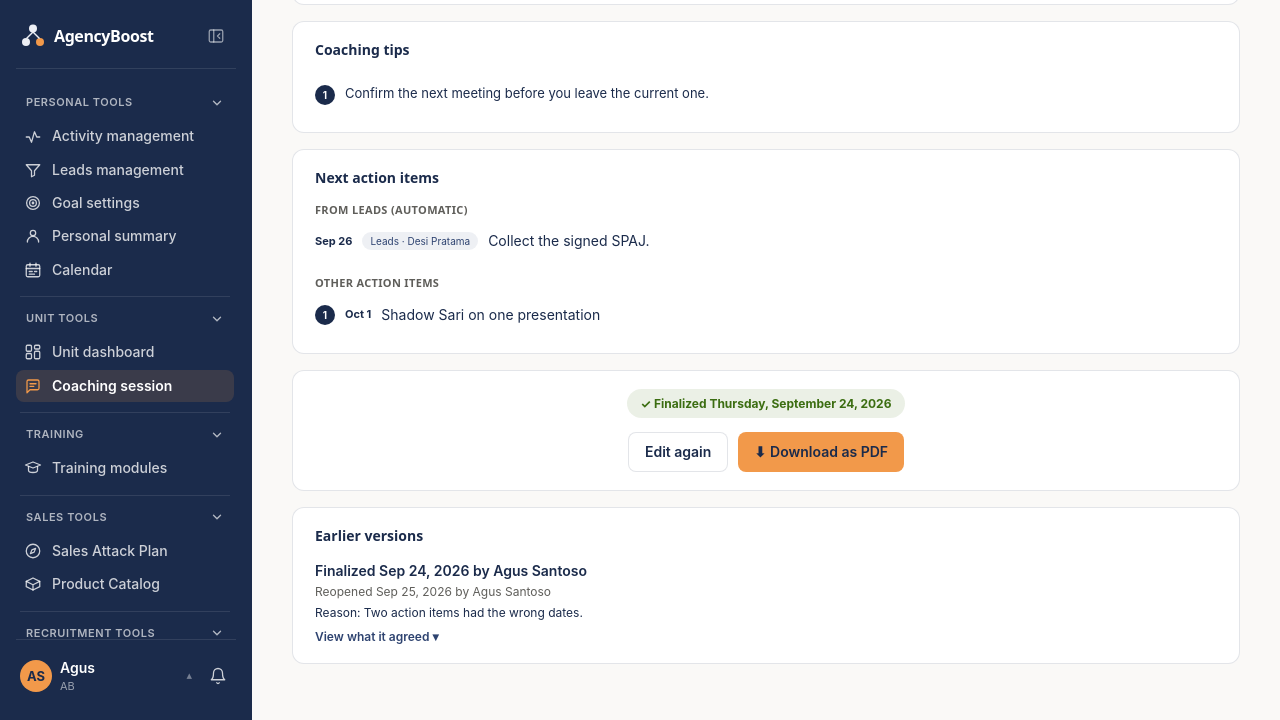
a past session’s archive (P11-T10) › earlier versions › P11-T10 AC-1 lists each earlier version with who finalized it, who reopened it, when and why, and opens what it agreed
The width and height of the screenshot is (1280, 720).
(page scrolled)
Expected: the element "Earlier versions" shows "Finalized Sep 24, 2026 by Agus Santoso", [292, 507, 1240, 664]
Expected: the element "Earlier versions" shows "Reopened Sep 25, 2026 by Agus Santoso", [292, 507, 1240, 664]
Click the button "View what it agreed ▾": [377, 636] box [315, 628, 438, 645]
(page scrolled)
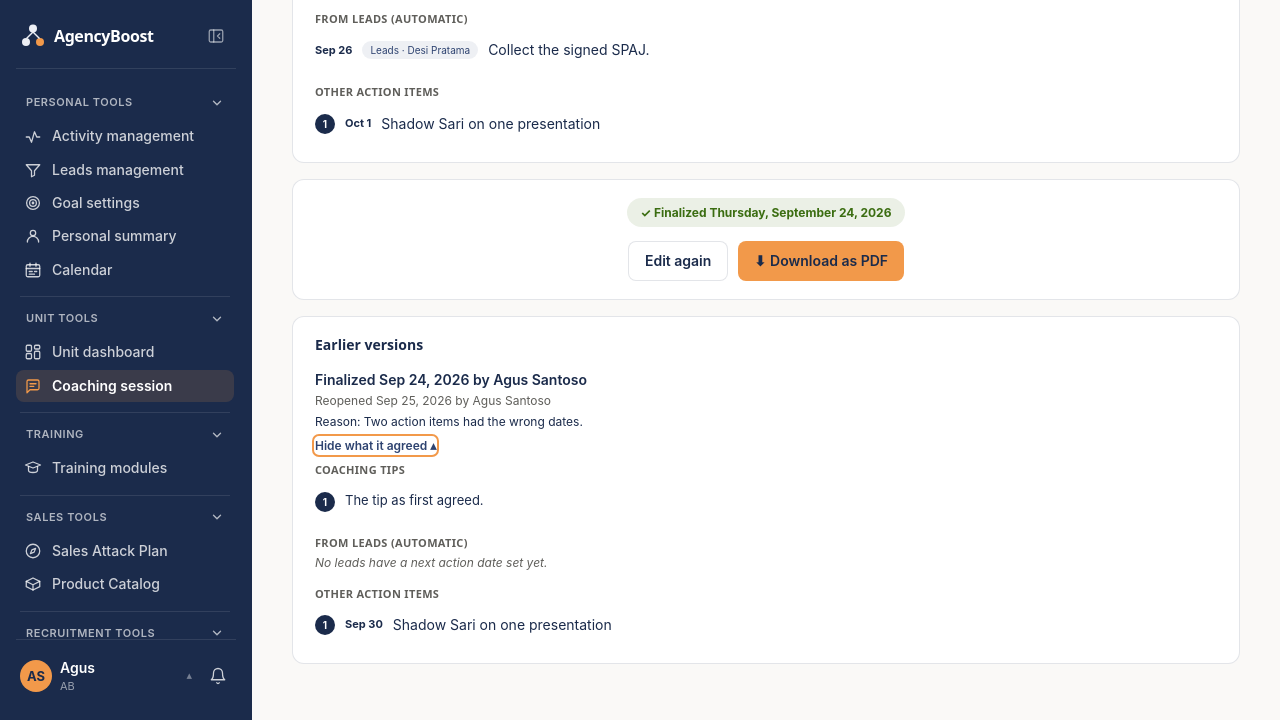
Now the button named "View what it agreed" is expanded, box [315, 437, 436, 454]
Now the button named "View what it agreed" reads "Hide what it agreed ▴", box [315, 437, 436, 454]
Now the text "The tip as first agreed." is shown, box [345, 492, 484, 508]
